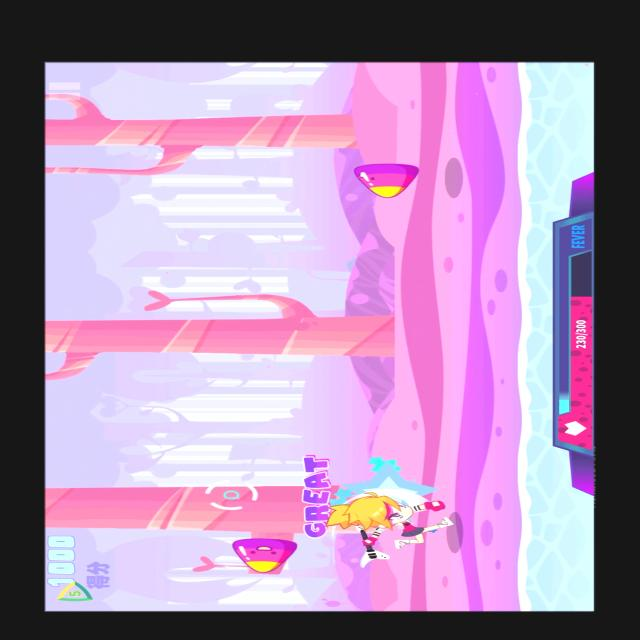jian: (341, 152, 441, 206), (228, 532, 304, 578)
